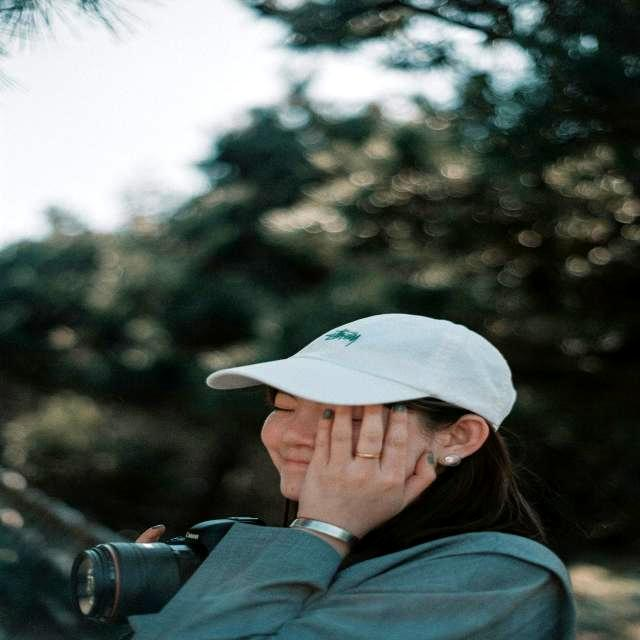no_hard_hat: (206, 314, 516, 430)
person: (131, 314, 576, 640)
